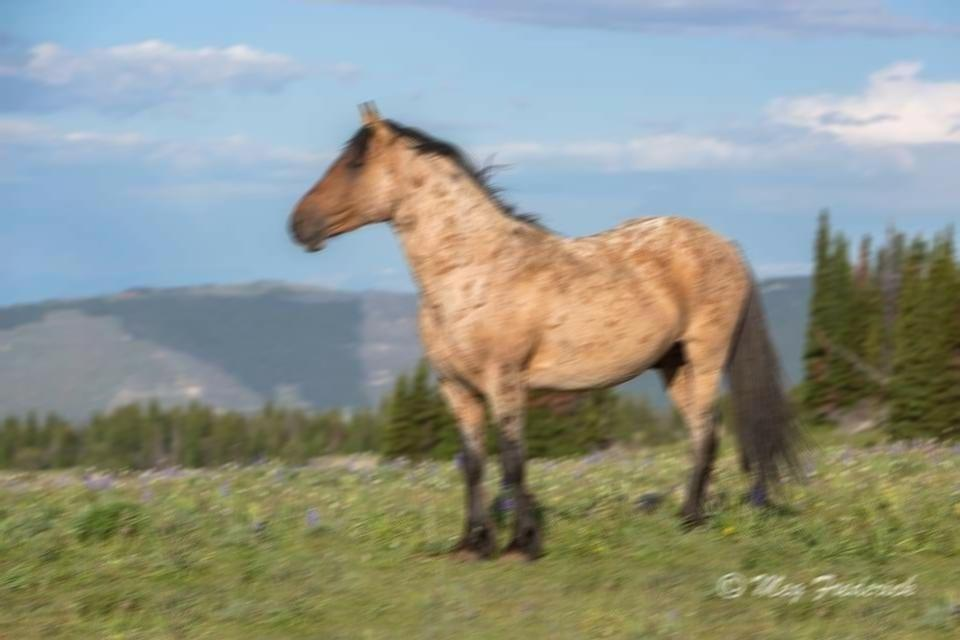horse: (286, 98, 821, 565)
